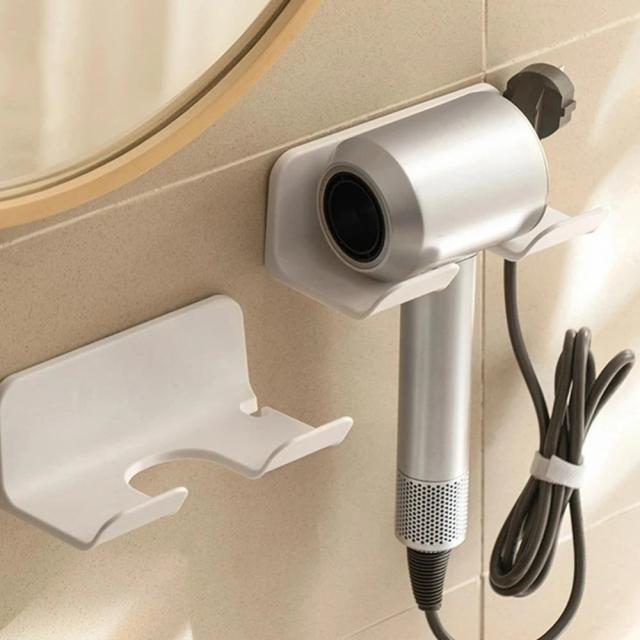dryer: (306, 77, 562, 622)
